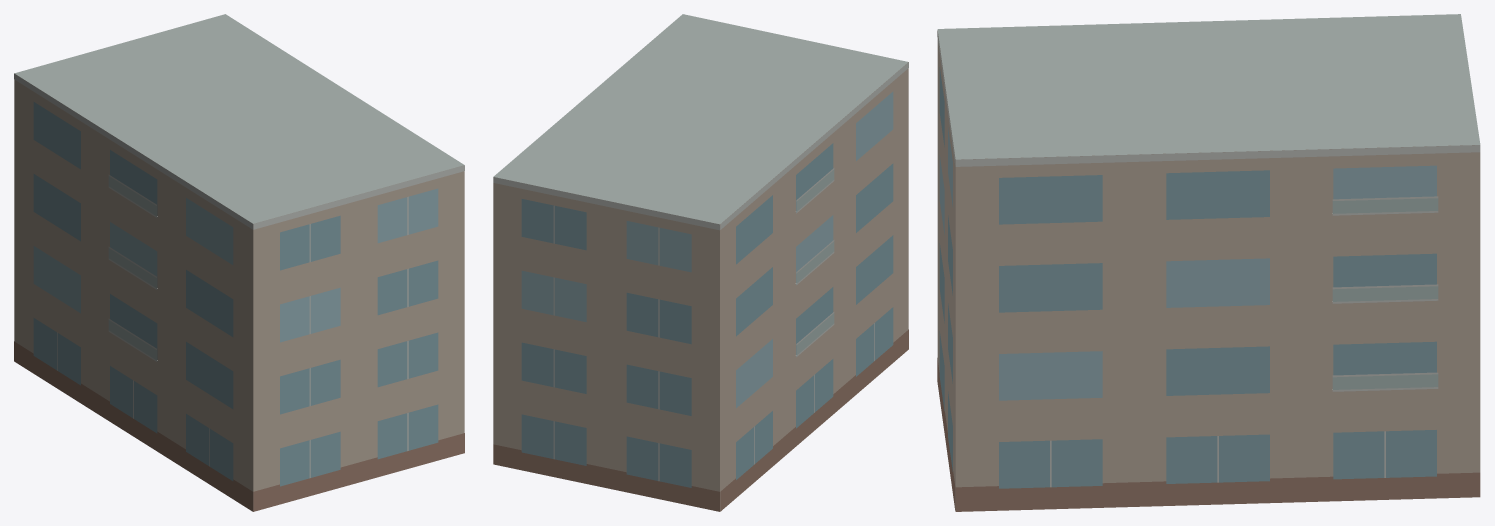
Rendered from survey-upis-32764092.glb.
The picture shows the model from 3 angles, left to right: view 1: azimuth 30°, elevation 25°; view 2: azimuth 150°, elevation 25°; view 3: azimuth 270°, elevation 25°; orthographic projection. The views are drawn at different scales.
Visible parts, largest first — view 1: survey-upis-32764092.tmp; view 2: survey-upis-32764092.tmp; view 3: survey-upis-32764092.tmp.
Part boxes in pixels (left/top/right/bottom): survey-upis-32764092.tmp: left=14, top=14, right=464, bottom=511; survey-upis-32764092.tmp: left=493, top=14, right=908, bottom=511; survey-upis-32764092.tmp: left=937, top=14, right=1480, bottom=511.
Size of the model in its own units: 10.38 by 11.7 by 16.36.
